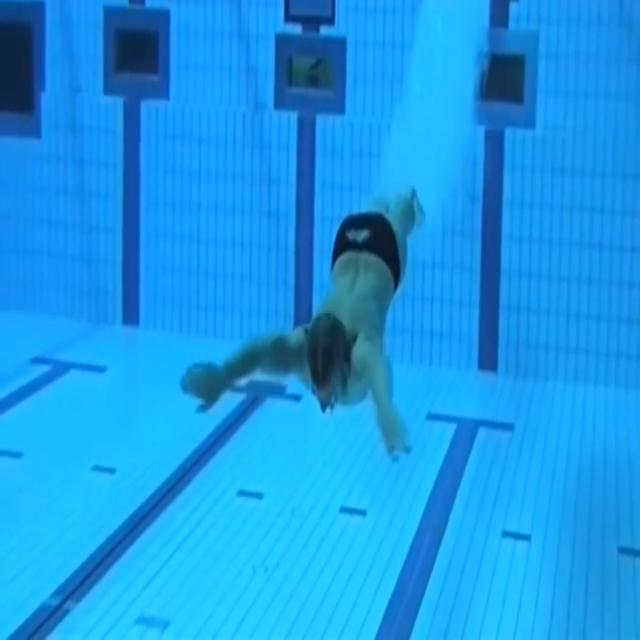Swimming: (181, 185, 426, 459)
